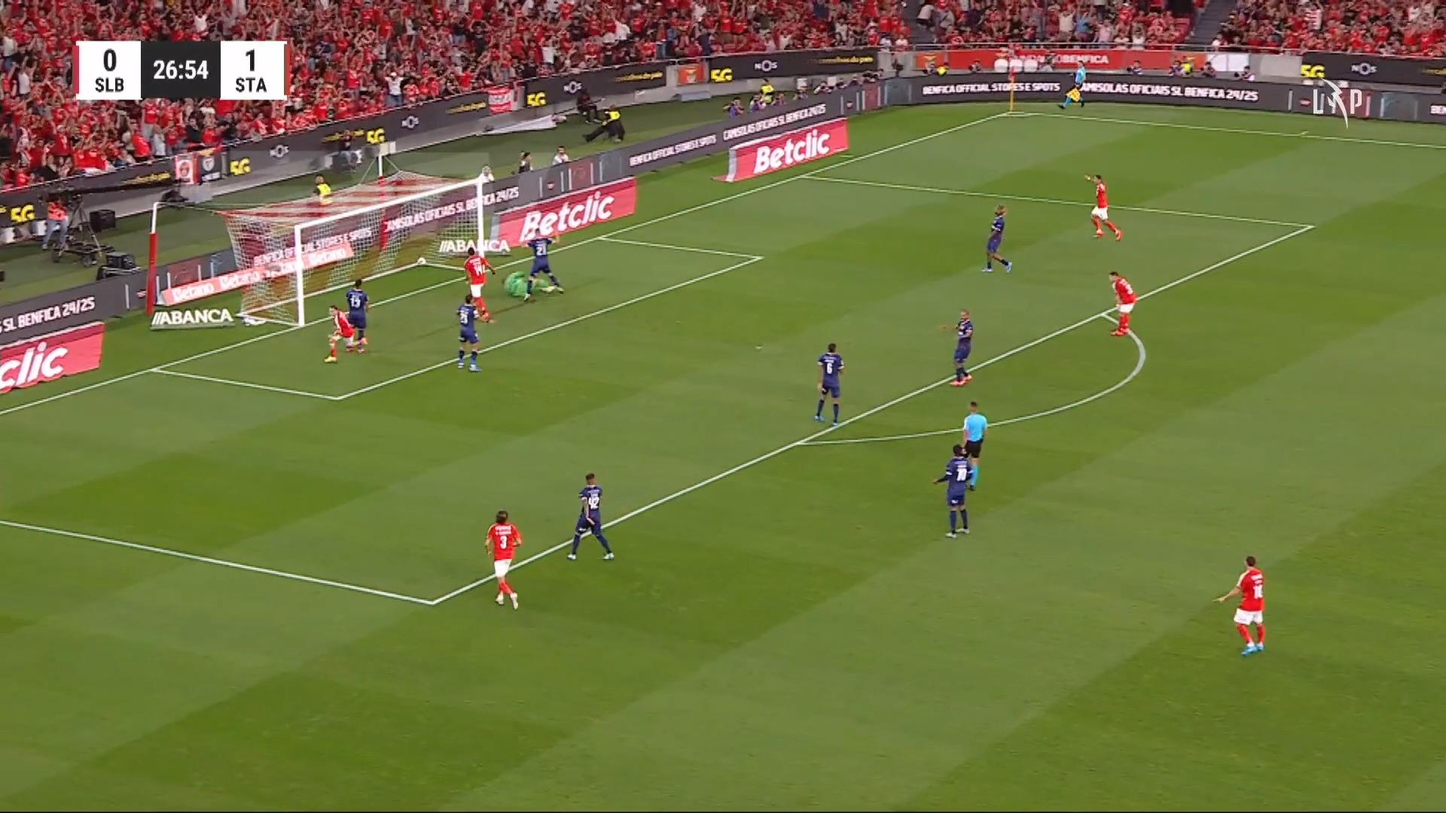goalkeeper: (502, 270, 565, 301)
player: (1213, 554, 1267, 656), (566, 471, 615, 561), (932, 443, 974, 538), (484, 510, 523, 610), (522, 228, 564, 301), (939, 309, 974, 386), (462, 244, 496, 323), (813, 342, 845, 424), (1084, 172, 1122, 241), (981, 202, 1012, 273), (455, 294, 483, 371), (323, 303, 358, 362), (343, 277, 370, 353), (1107, 269, 1136, 336)
referee: (961, 400, 988, 491), (1057, 59, 1087, 109)
